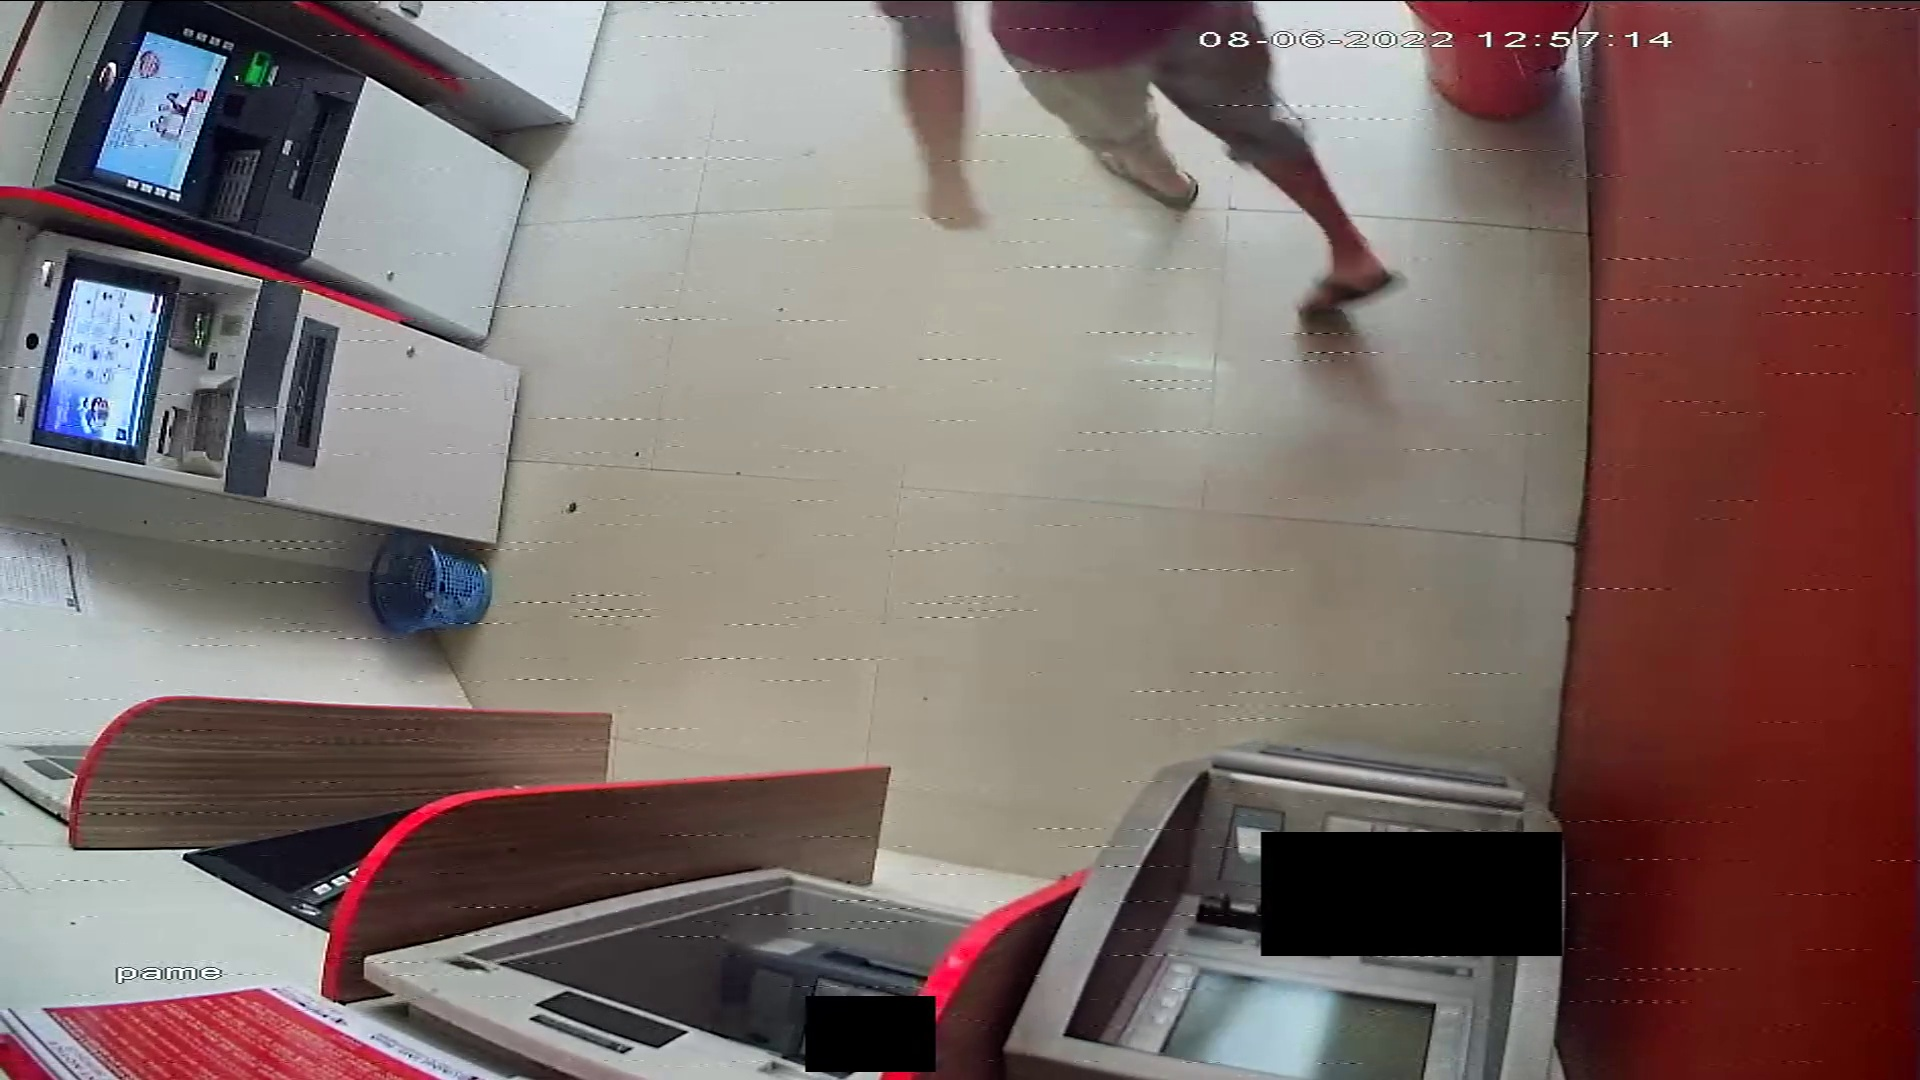person: (893, 1, 1407, 316)
